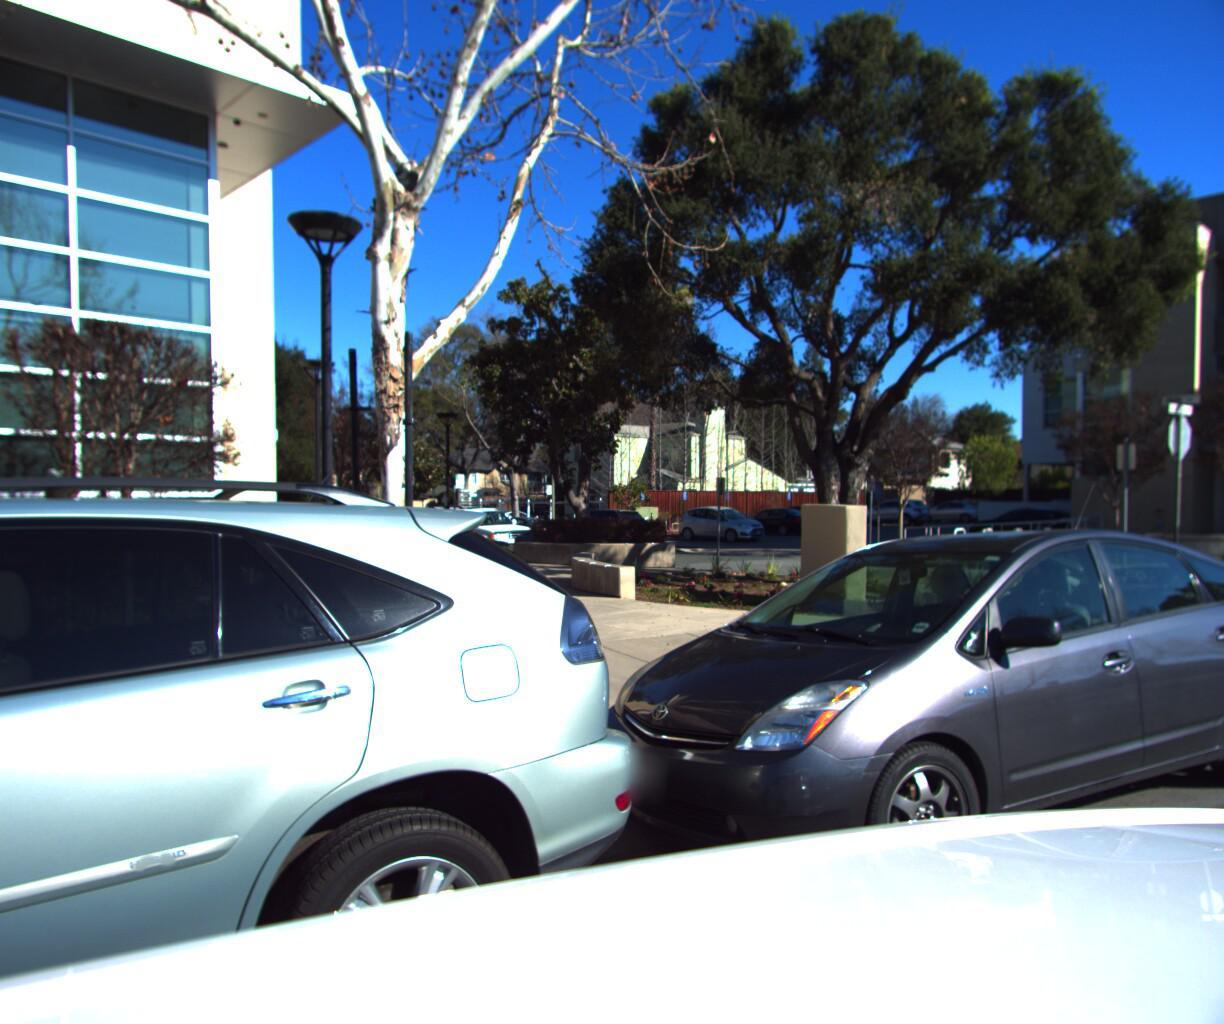car: (0, 394, 732, 1024), (554, 499, 1224, 992), (217, 488, 352, 554), (413, 500, 548, 563), (551, 502, 656, 553), (676, 502, 772, 540), (725, 501, 820, 534), (483, 508, 567, 544)
